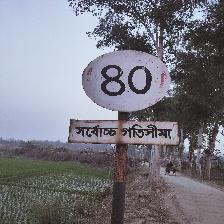Speed-limit: (70, 48, 177, 146)
